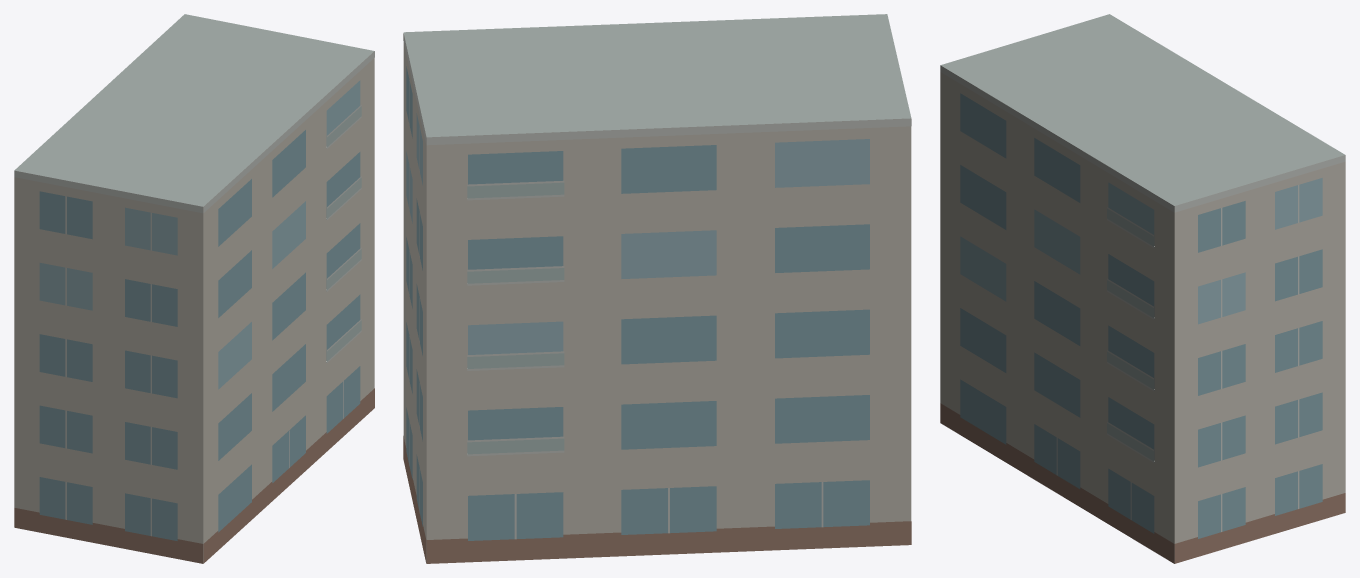
Rendered from survey-upis-32883363.glb.
The picture shows the model from 3 angles, left to right: view 1: azimuth 30°, elevation 25°; view 2: azimuth 150°, elevation 25°; view 3: azimuth 270°, elevation 25°; orthographic projection. The views are drawn at different scales.
Parts seen in each view (by area): view 1: survey-upis-32883363.tmp; view 2: survey-upis-32883363.tmp; view 3: survey-upis-32883363.tmp.
Part boxes in pixels (left/top/right/bottom): survey-upis-32883363.tmp: left=14, top=14, right=374, bottom=563; survey-upis-32883363.tmp: left=403, top=14, right=911, bottom=563; survey-upis-32883363.tmp: left=940, top=14, right=1345, bottom=563.
Bounding box in the file's own units: 15.21 × 13.2 × 13.56.
